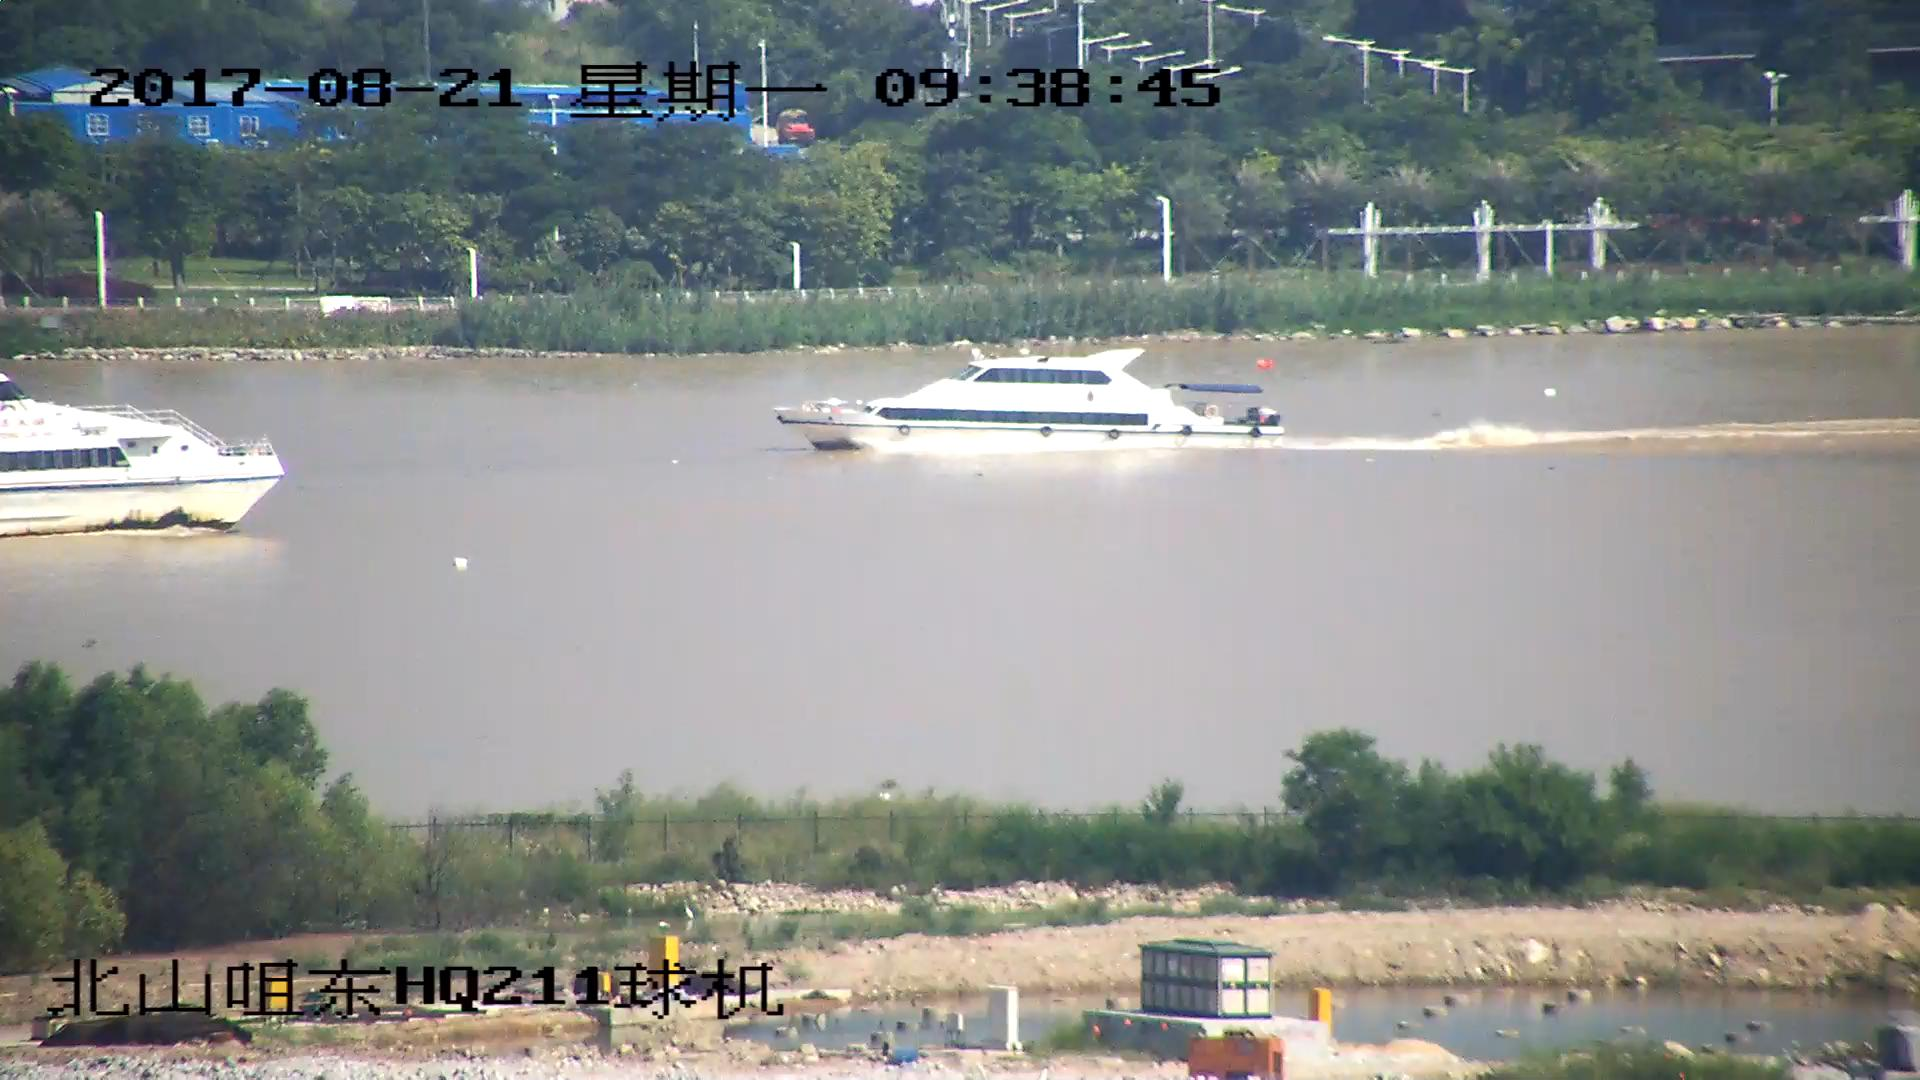passenger ship: (774, 351, 1288, 451), (1, 373, 292, 537)
